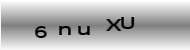6: (33, 25, 47, 39)
U: (120, 15, 135, 30)
X: (104, 17, 122, 32)
n: (57, 24, 71, 36)
u: (76, 24, 91, 36)
